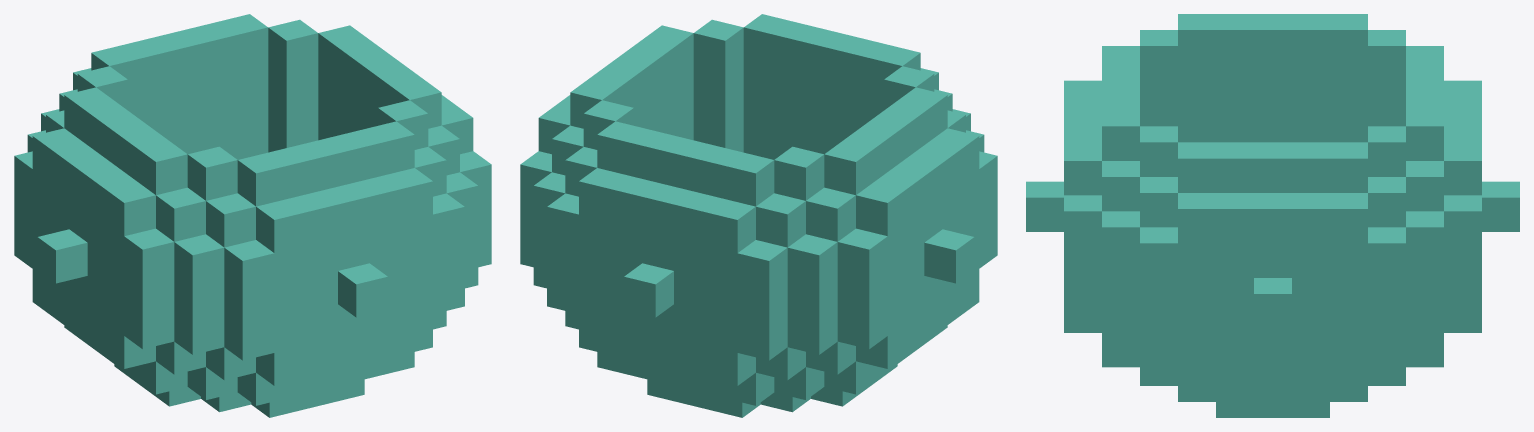
File: alien-biosphere-cup-rosette-d3ec9698__22698.glb
The picture shows the model from 3 angles, left to right: view 1: azimuth 30°, elevation 25°; view 2: azimuth 150°, elevation 25°; view 3: azimuth 270°, elevation 25°; orthographic projection. The views are drawn at different scales.
Visible parts, largest first — view 1: cup-rosette; view 2: cup-rosette; view 3: cup-rosette.
Part boxes in pixels (left/top/right/bottom): cup-rosette: left=14, top=14, right=491, bottom=417; cup-rosette: left=520, top=14, right=997, bottom=417; cup-rosette: left=1026, top=14, right=1519, bottom=417.
Bounding box in the file's own units: 1.56 × 1.08 × 1.56.
